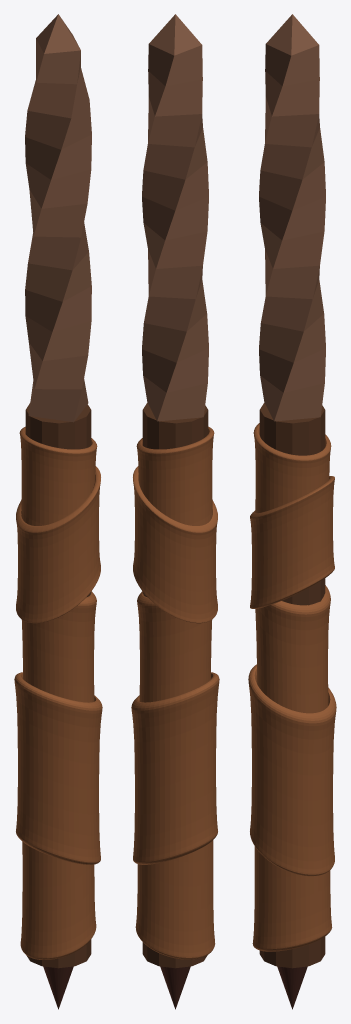
Rendered from Wand 352.glb.
The picture shows the model from 3 angles, left to right: view 1: azimuth 30°, elevation 25°; view 2: azimuth 150°, elevation 25°; view 3: azimuth 330°, elevation 25°; orthographic projection.
Parts seen in each view (by area): view 1: GeneratedWand; view 2: GeneratedWand; view 3: GeneratedWand.
Boxes of the visible parts, x1,y1,x2,y2 form: GeneratedWand: [14, 14, 102, 1009]; GeneratedWand: [131, 14, 219, 1009]; GeneratedWand: [248, 14, 336, 1009].
Size of the model in its own units: 0.0408 by 0.5089 by 0.0408.
